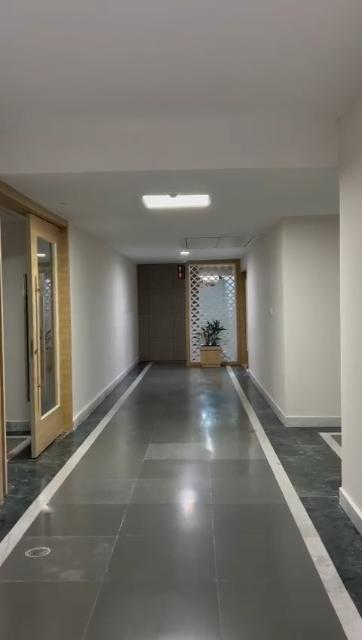door: (0, 190, 70, 458)
floor: (0, 365, 359, 640)
object: (194, 306, 226, 374)
wall: (253, 232, 335, 420), (337, 107, 362, 500), (76, 232, 138, 378)
